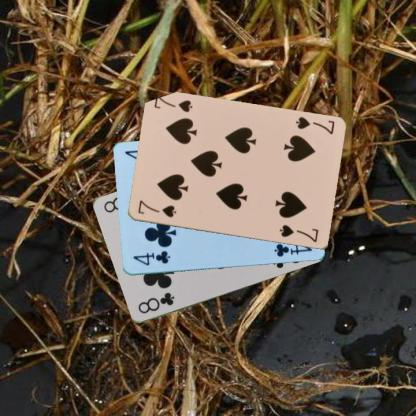4c: (130, 248, 172, 267)
7s: (292, 114, 336, 136), (134, 198, 178, 219)
8c: (135, 290, 176, 316)
